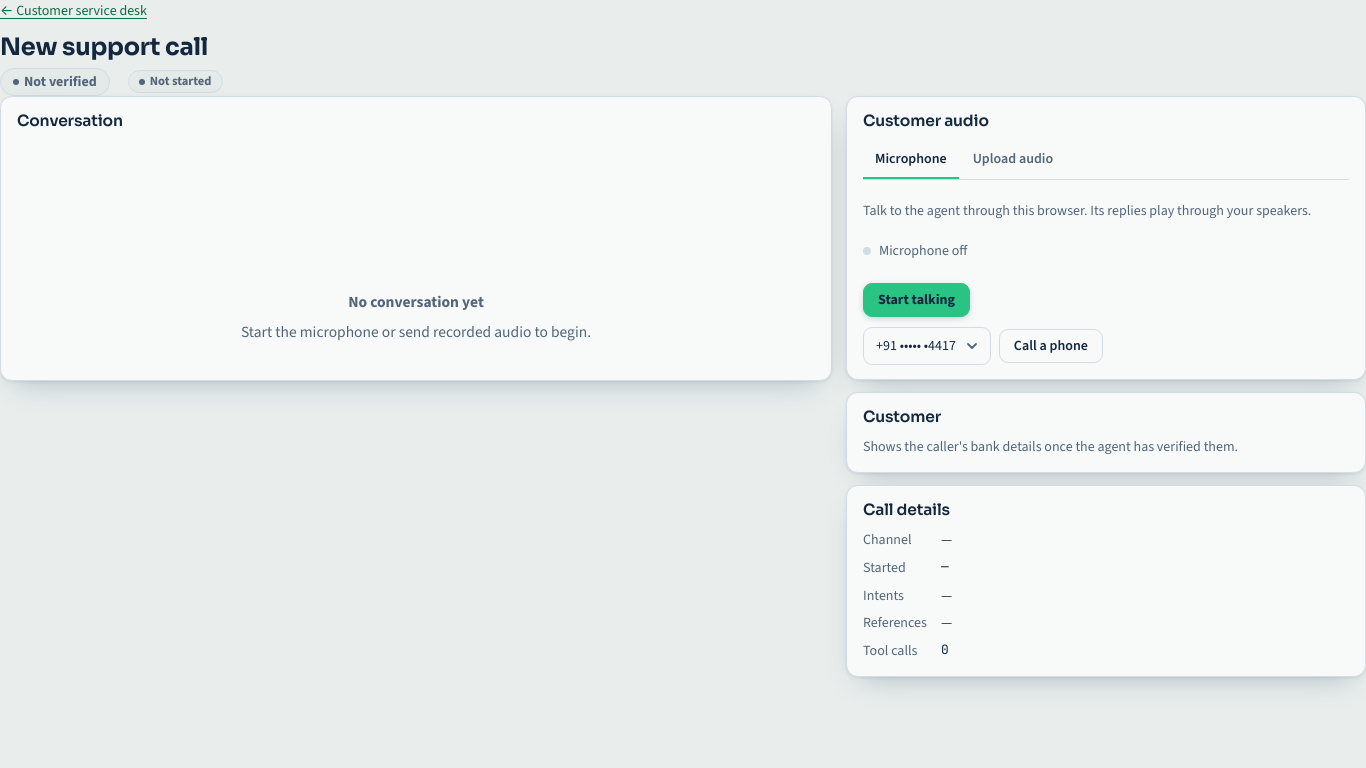
Test: SupportCall polling › polls every second after the desk rings a phone, and keeps doing so once the caller answers
Click the button "Call a phone".
click(1051, 346)  # box [999,329,1103,362]
Wait 132000 ms
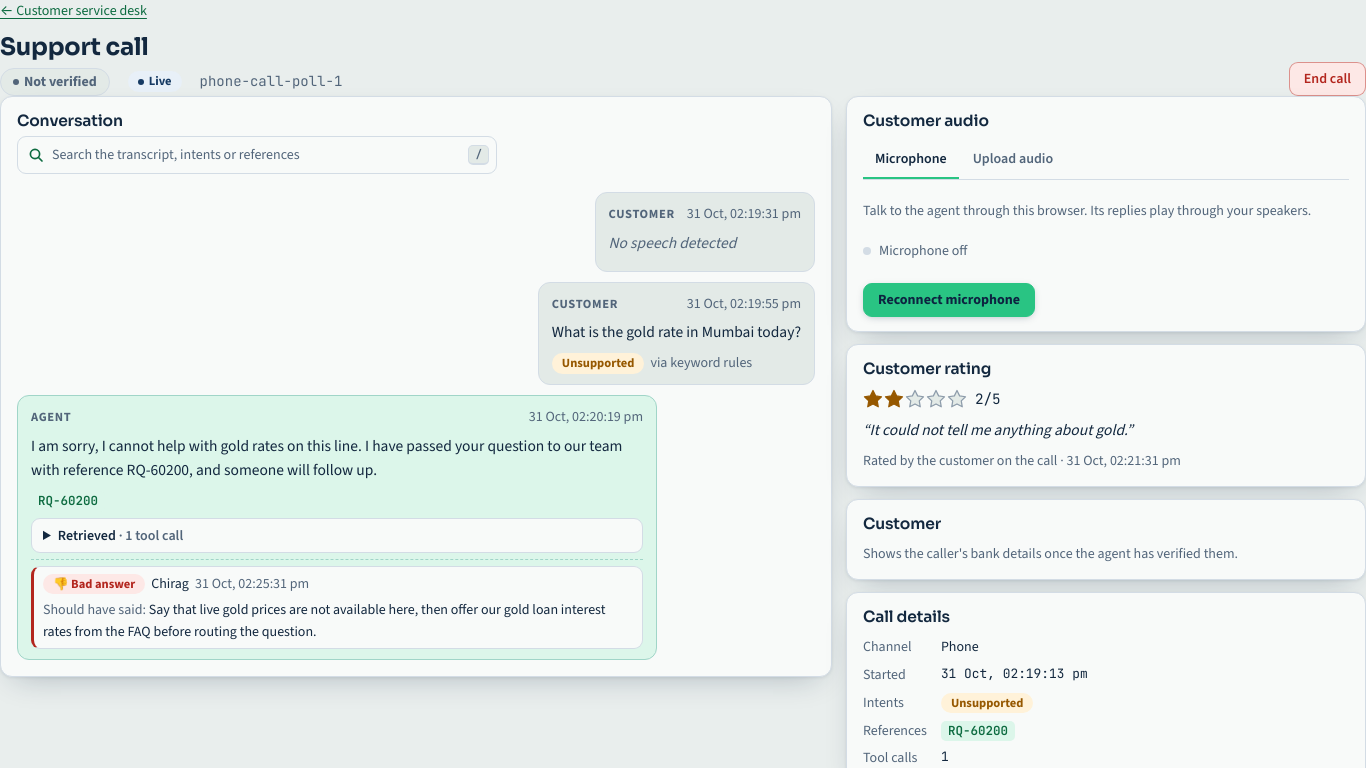
Expected: the list named "Conversation history" is shown, [1,184,831,676]
Now the text "phone-call-poll-1" is shown, box [200,71,342,92]
